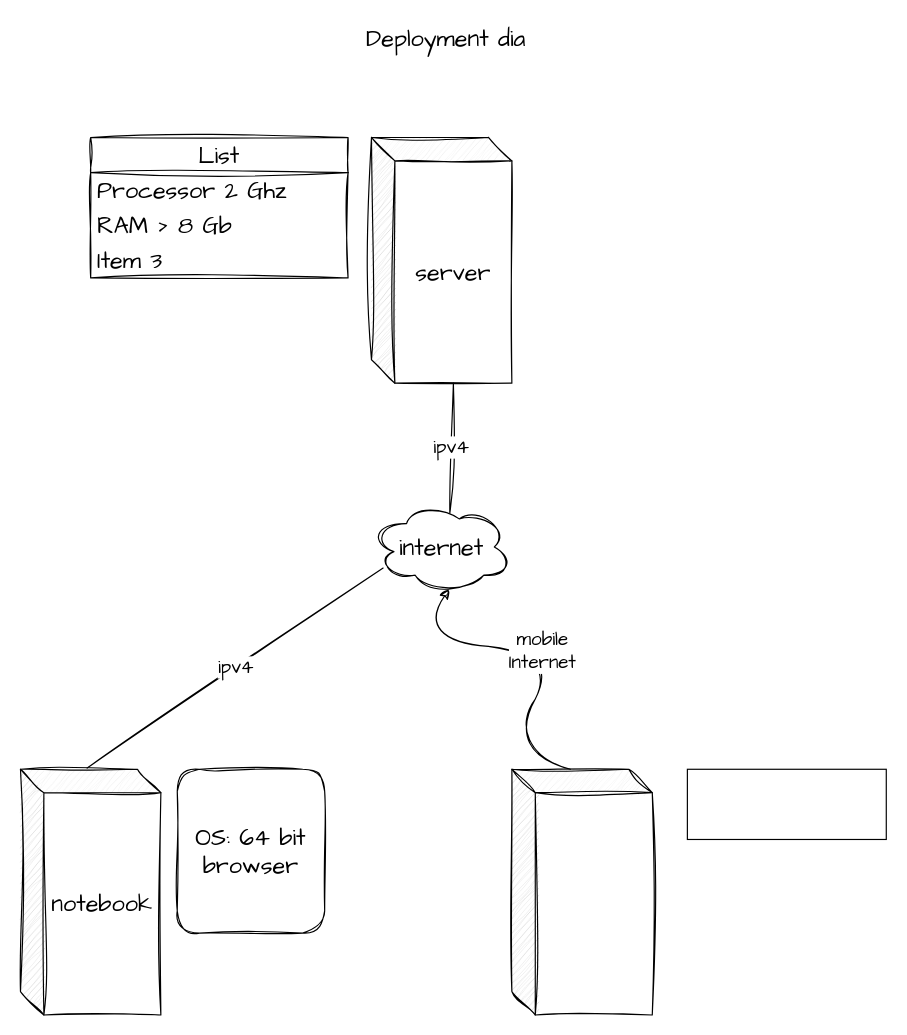
The diagram is 907 pixels wide and 1035 high, and some of its shapes have lost their labels. Here are the shapes that lost their labels. From the top down, the centre of each, then its label:
At (786,803): "iOS: 15+ Model: 11+".
At (581,891): "mobile device".
